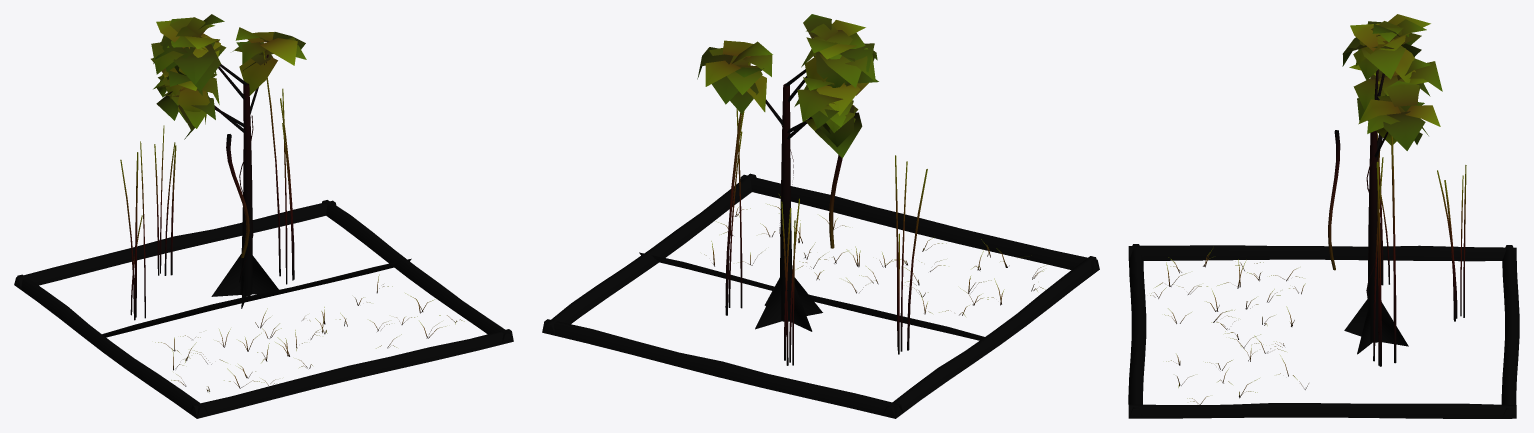
Rendered from patch_paddy_edge_far.glb.
3 renders of one model, left to right at view 1: azimuth 30°, elevation 25°; view 2: azimuth 150°, elevation 25°; view 3: azimuth 270°, elevation 25°, orthographic. The views are drawn at different scales.
Parts seen in each view (by area): view 1: patch_paddy_edge_far; view 2: patch_paddy_edge_far; view 3: patch_paddy_edge_far.
Boxes of the visible parts, bbox=[...] form: patch_paddy_edge_far: bbox=[14, 14, 513, 418]; patch_paddy_edge_far: bbox=[542, 14, 1099, 418]; patch_paddy_edge_far: bbox=[1128, 14, 1519, 418].
Size of the model in its own units: 12.11 by 10.12 by 12.11.
Materials: 1 (1 with a texture image).
